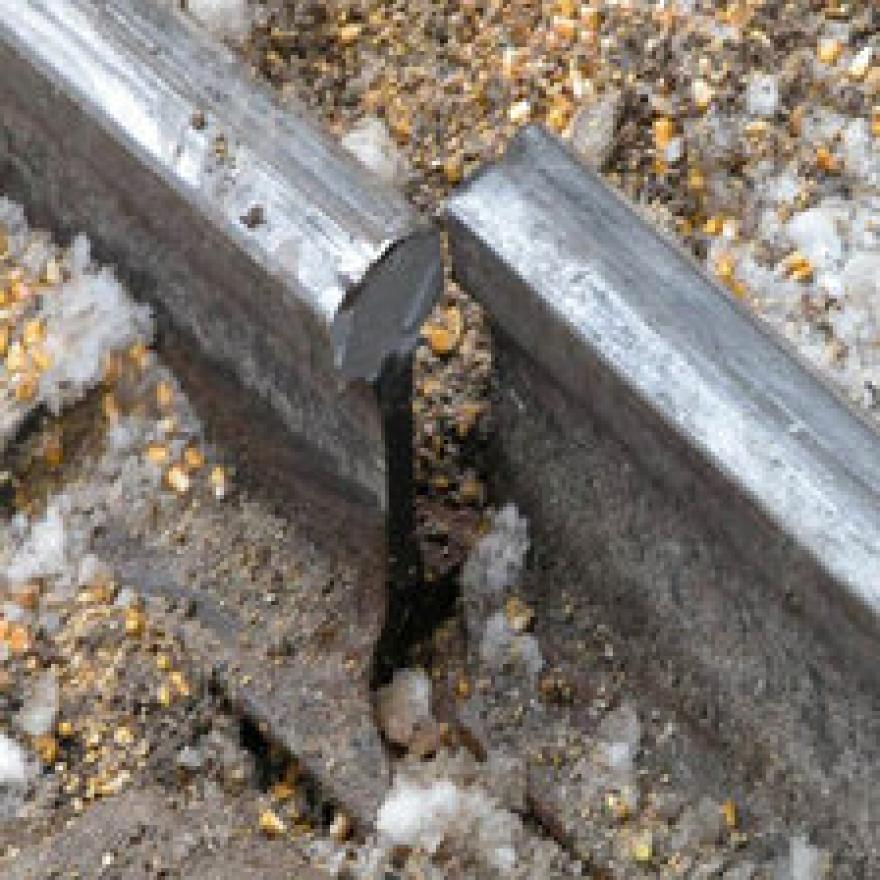railway-gap: (65, 45, 816, 832)
